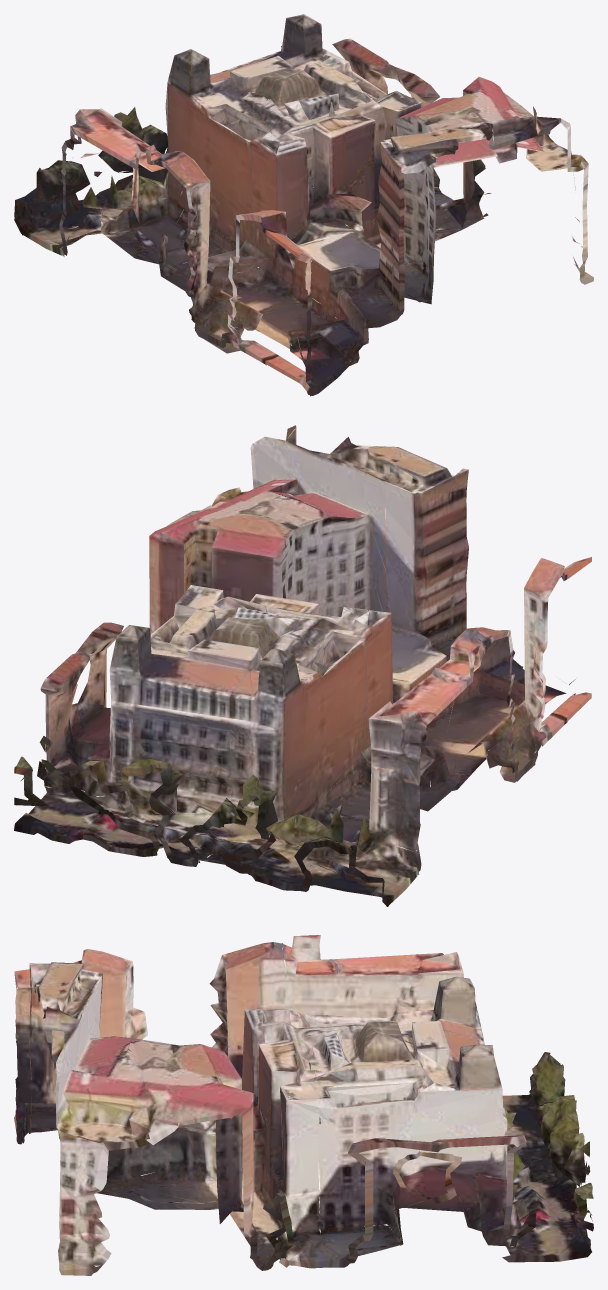
3 renders of one model, top to bottom at view 1: azimuth 30°, elevation 25°; view 2: azimuth 150°, elevation 25°; view 3: azimuth 270°, elevation 25°, orthographic. The views are drawn at different scales.
Parts seen in each view (by area): view 1: Mesh_0; view 2: Mesh_0; view 3: Mesh_0.
Part boxes in pixels (left/top/right/bottom): Mesh_0: left=14, top=14, right=593, bottom=396; Mesh_0: left=14, top=425, right=591, bottom=906; Mesh_0: left=14, top=935, right=593, bottom=1275.
Bounding box in the file's own units: 66.58 × 37.92 × 82.64.
Materials: 1 (1 with a texture image).
